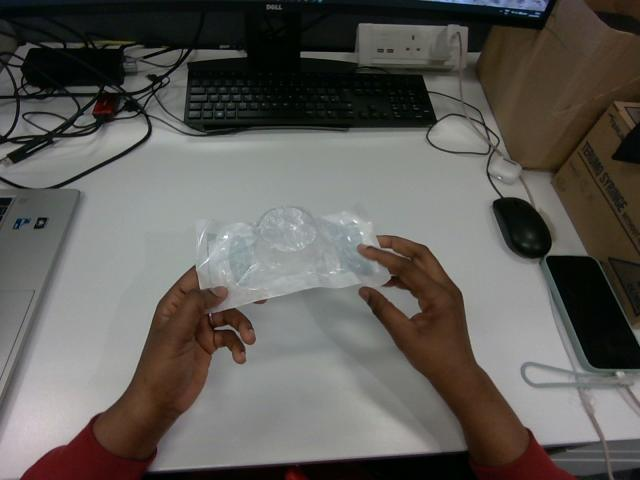gallipot: (196, 206, 389, 312)
